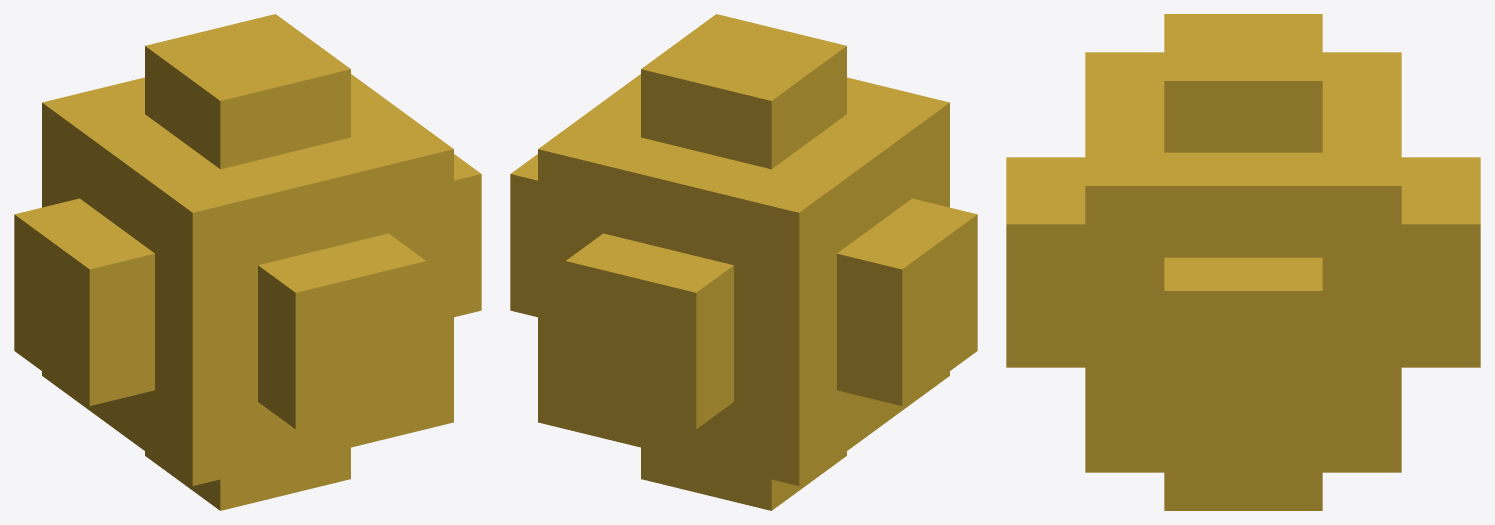
File: enemy_bullet.obj
3 views of the same model, side by side, from view 1: azimuth 30°, elevation 25°; view 2: azimuth 150°, elevation 25°; view 3: azimuth 270°, elevation 25° (orthographic). The views are drawn at different scales.
Bounding box in the file's own units: 0.6 × 0.6 × 0.6.
1 material, 1 textured.
